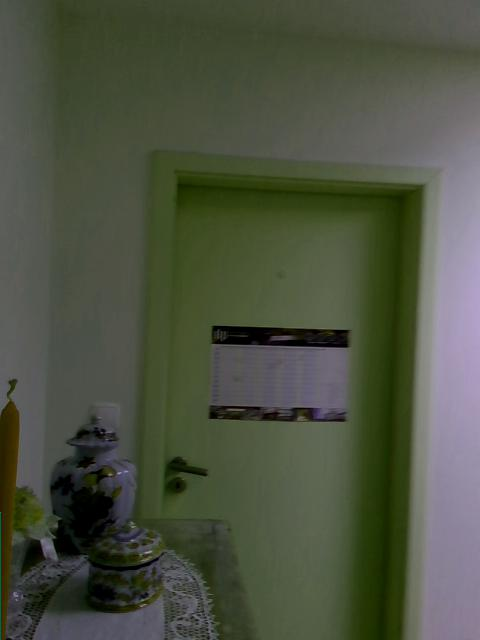closed_door: (135, 150, 441, 639)
